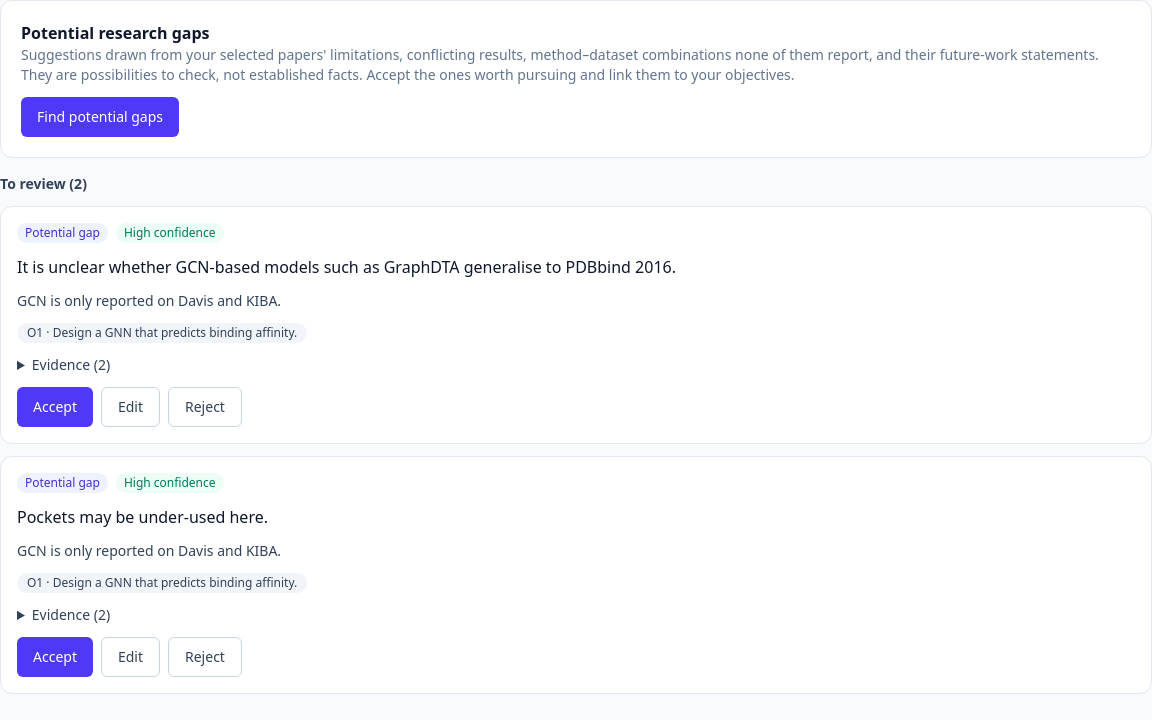
Test: GapsPanel › accepts, rejects and restores through the API
Click the 1st button "Accept": click(55, 407) [17, 387, 93, 427]
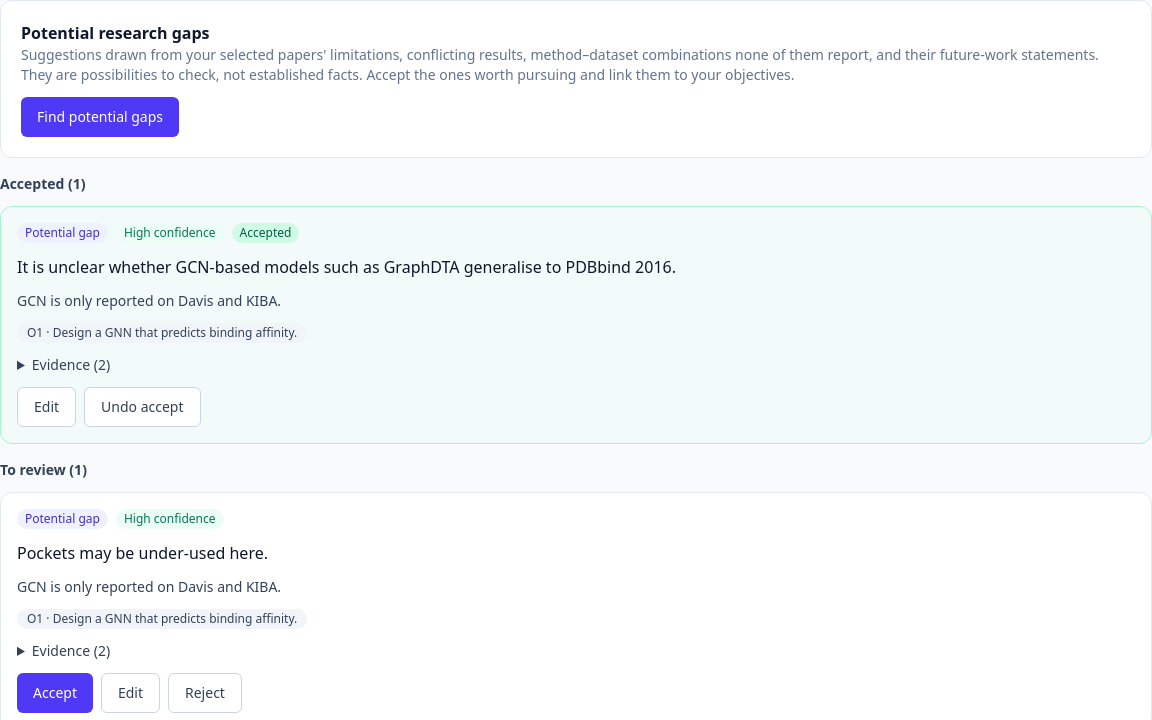
expect the heading "Accepted (1)" is shown: met, box [0, 174, 86, 193]
expect the text "Accepted" is shown: met, box [232, 223, 299, 243]
Click the button "Reject": click(205, 693) [168, 673, 242, 713]
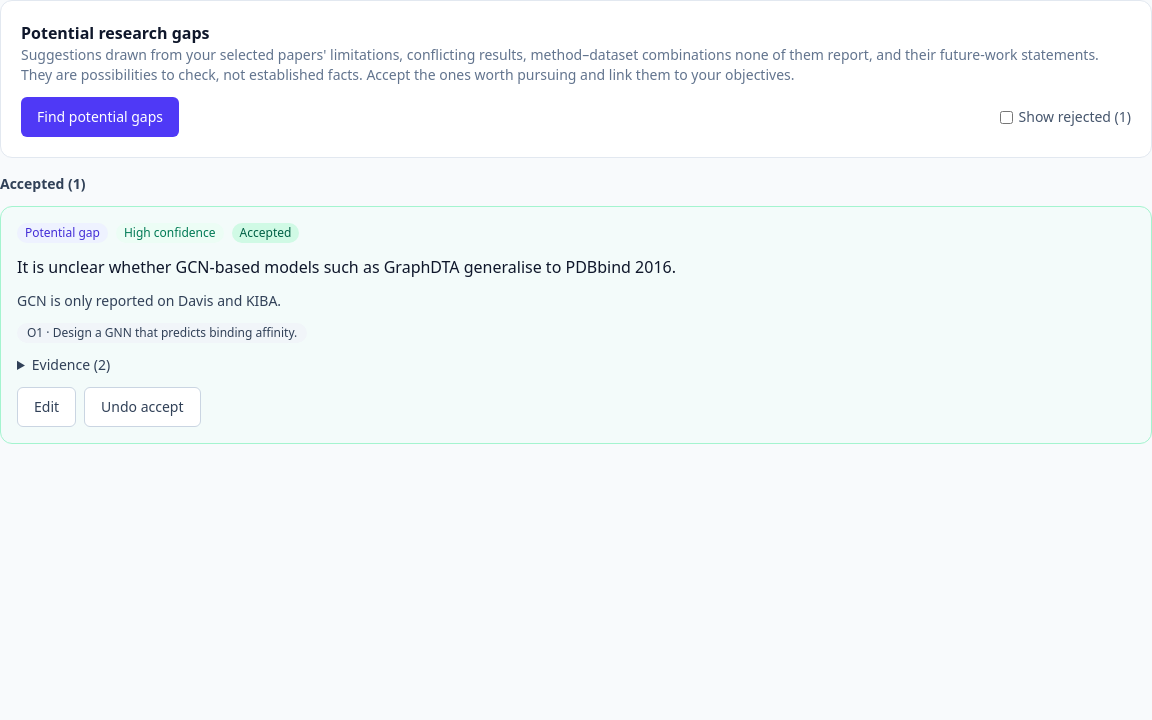
expect the text "Pockets may be" is gone: met
Click the checkbox labelled "Show rejected (1)": click(1006, 117) [1000, 110, 1013, 124]
(page scrolled)
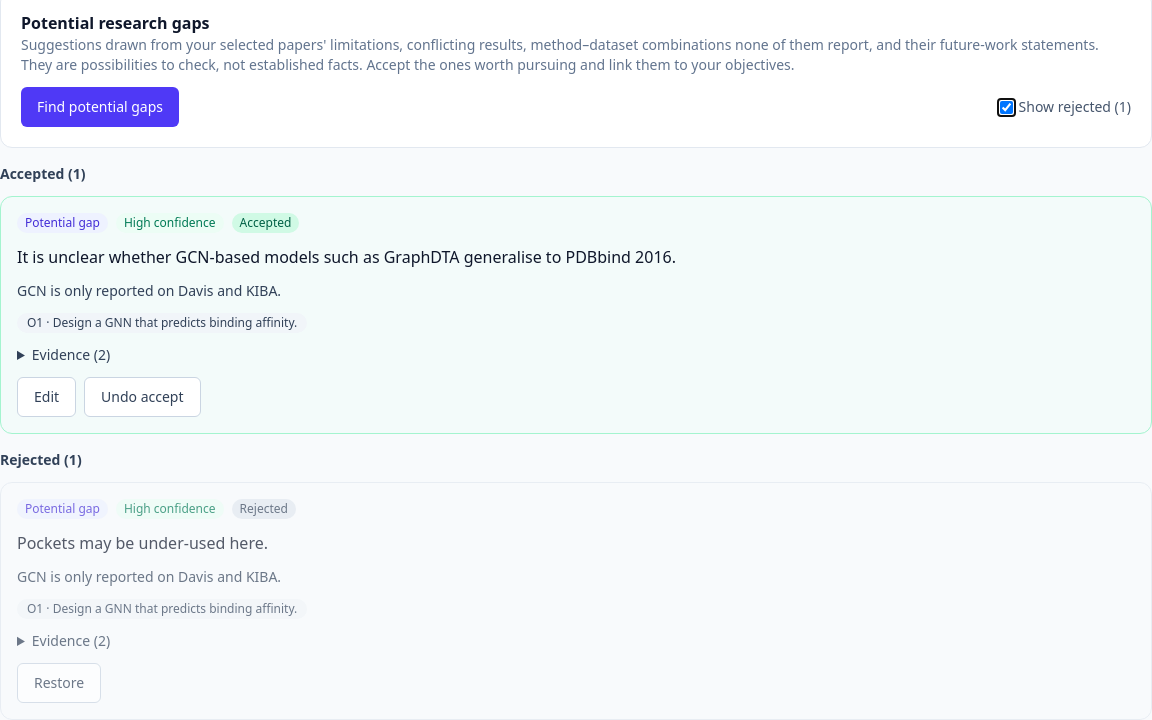
expect the element "Pockets may be" is shown: met, box [0, 482, 1151, 719]
